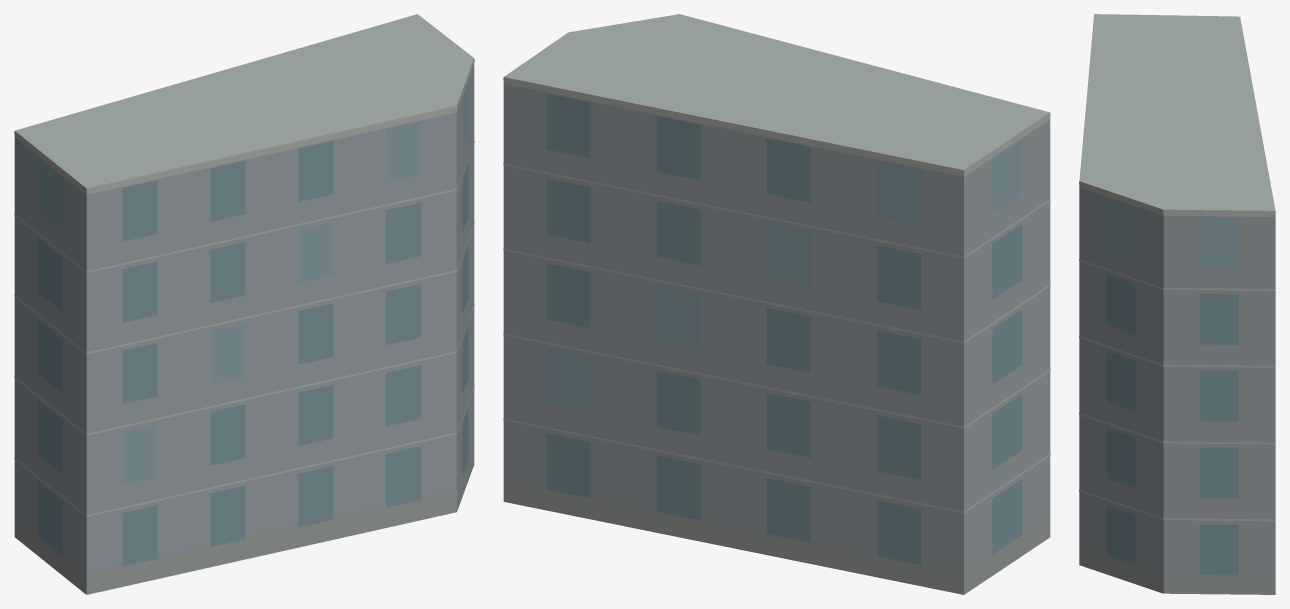
Rendered from survey-upis-32462133.glb.
The picture shows the model from 3 angles, left to right: view 1: azimuth 30°, elevation 25°; view 2: azimuth 150°, elevation 25°; view 3: azimuth 270°, elevation 25°; orthographic projection. The views are drawn at different scales.
Visible parts, largest first — view 1: survey-upis-32462133.tmp; view 2: survey-upis-32462133.tmp; view 3: survey-upis-32462133.tmp.
Part boxes in pixels (x1,y1,x2,y2): survey-upis-32462133.tmp: [14, 14, 474, 594]; survey-upis-32462133.tmp: [503, 14, 1050, 594]; survey-upis-32462133.tmp: [1079, 14, 1275, 594].
Size of the model in its own units: 16.63 by 15.1 by 7.02.
